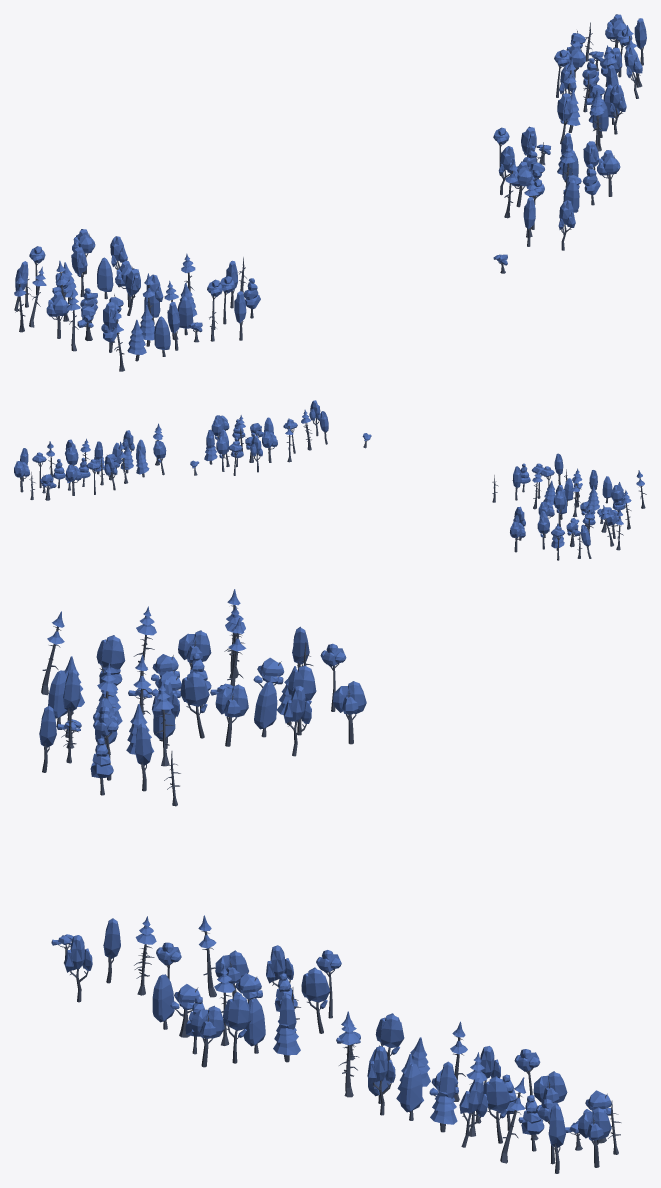
The model's file is pohon highground 2.fbx.
The picture shows the model from 3 angles, top to bottom: view 1: azimuth 30°, elevation 25°; view 2: azimuth 150°, elevation 25°; view 3: azimuth 270°, elevation 25°; orthographic projection. The views are drawn at different scales.
Visible parts, largest first — view 1: Tree_temp_climate_007.004, Tree_temp_climate_007.003; view 2: Tree_temp_climate_007.006, Tree_temp_climate_007.005, Tree_temp_climate_007.001, Tree_temp_climate_007.007, Tree_temp_climate_005.005, Tree_temp_climate_006.001, Tree_temp_climate_005.006, Tree_temp_climate_006.006, Tree_temp_climate_006.007; view 3: Tree_temp_climate_007.001, Tree_temp_climate_007.002, Tree_temp_climate_007.004, Tree_temp_climate_007.006, Tree_temp_climate_006.005, Tree_temp_climate_006.001, Tree_temp_climate_006.006, Tree_temp_climate_005.007, Tree_temp_climate_005.002, Tree_temp_climate_005.008, Tree_temp_climate_006.008, Tree_temp_climate_014.008 (+4 smaller).
Boxes of the visible parts, bbox=[...] form: Tree_temp_climate_007.004: bbox=[597, 150, 620, 196]; Tree_temp_climate_007.003: bbox=[46, 291, 69, 338]; Tree_temp_climate_007.006: bbox=[14, 461, 29, 492]; Tree_temp_climate_007.005: bbox=[262, 431, 277, 462]; Tree_temp_climate_007.001: bbox=[510, 521, 525, 552]; Tree_temp_climate_007.007: bbox=[65, 464, 81, 495]; Tree_temp_climate_005.005: bbox=[250, 435, 262, 472]; Tree_temp_climate_006.001: bbox=[553, 491, 565, 526]; Tree_temp_climate_005.006: bbox=[104, 455, 117, 490]; Tree_temp_climate_006.006: bbox=[216, 436, 228, 471]; Tree_temp_climate_006.007: bbox=[153, 440, 166, 475]; Tree_temp_climate_007.001: bbox=[333, 681, 366, 744]; Tree_temp_climate_007.002: bbox=[215, 684, 248, 746]; Tree_temp_climate_007.004: bbox=[191, 1005, 224, 1067]; Tree_temp_climate_007.006: bbox=[578, 1107, 611, 1167]; Tree_temp_climate_006.005: bbox=[223, 994, 251, 1063]; Tree_temp_climate_006.001: bbox=[180, 671, 209, 738]; Tree_temp_climate_006.006: bbox=[301, 967, 330, 1033]; Tree_temp_climate_005.007: bbox=[459, 1078, 488, 1147]; Tree_temp_climate_005.002: bbox=[283, 686, 311, 756]; Tree_temp_climate_005.008: bbox=[367, 1046, 395, 1115]; Tree_temp_climate_006.008: bbox=[483, 1076, 510, 1143]; Tree_temp_climate_014.008: bbox=[400, 1063, 422, 1120].
Bounding box in the file's own units: 18292 × 1553 × 8830.
